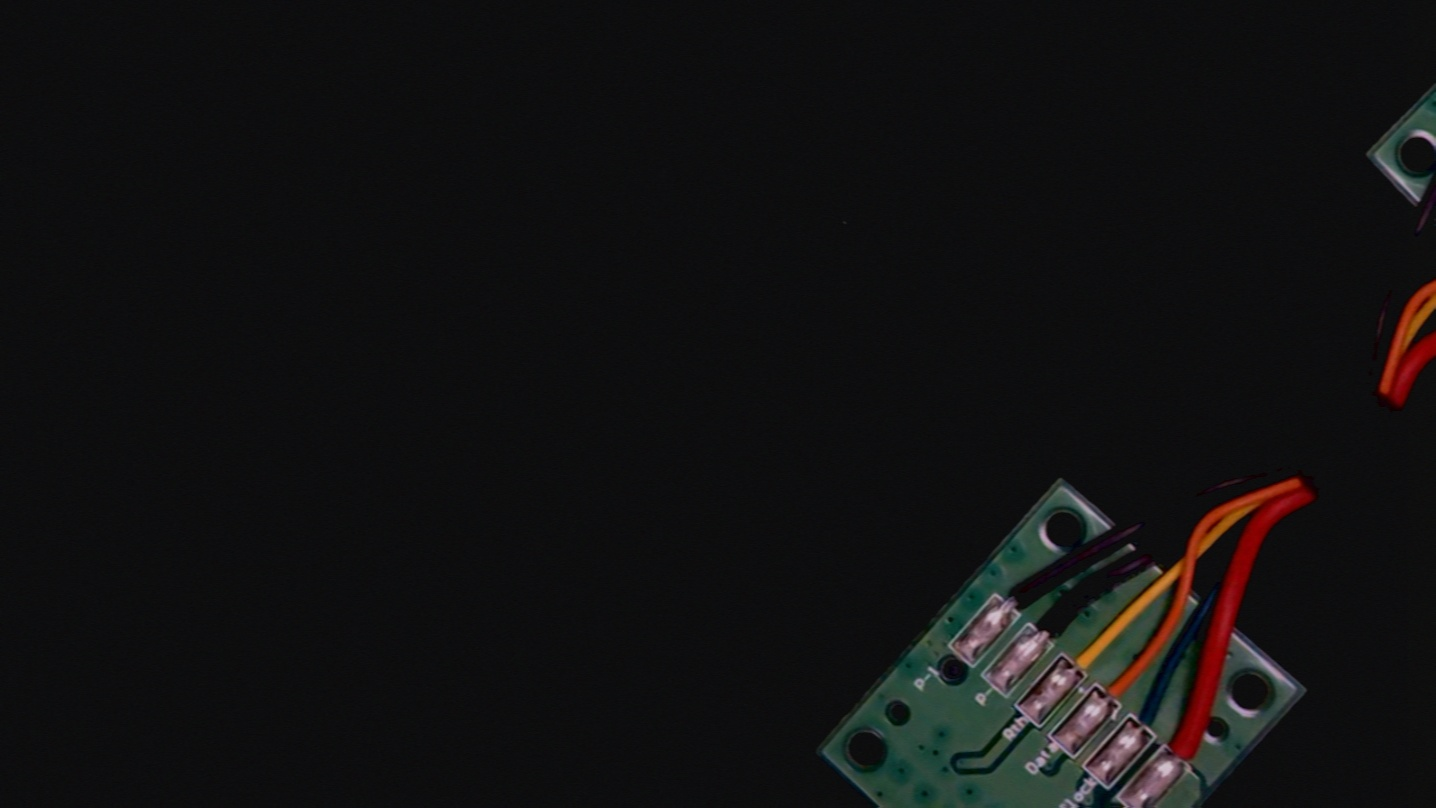Black: (1016, 585, 1093, 664)
Black1: (978, 551, 1057, 631)
Green: (1114, 675, 1194, 756)
Orange: (1082, 640, 1164, 724)
Red: (1149, 705, 1231, 789)
Yellow: (1046, 611, 1132, 698)
